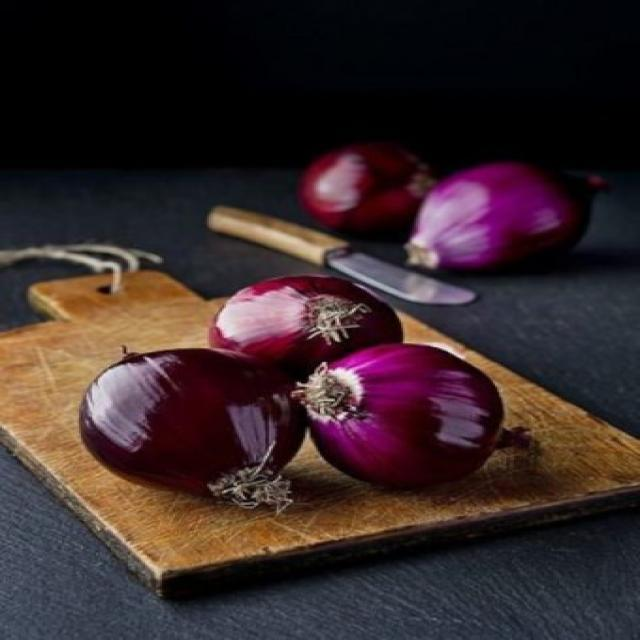onion: (68, 337, 304, 516), (302, 343, 527, 498), (185, 265, 384, 358)
